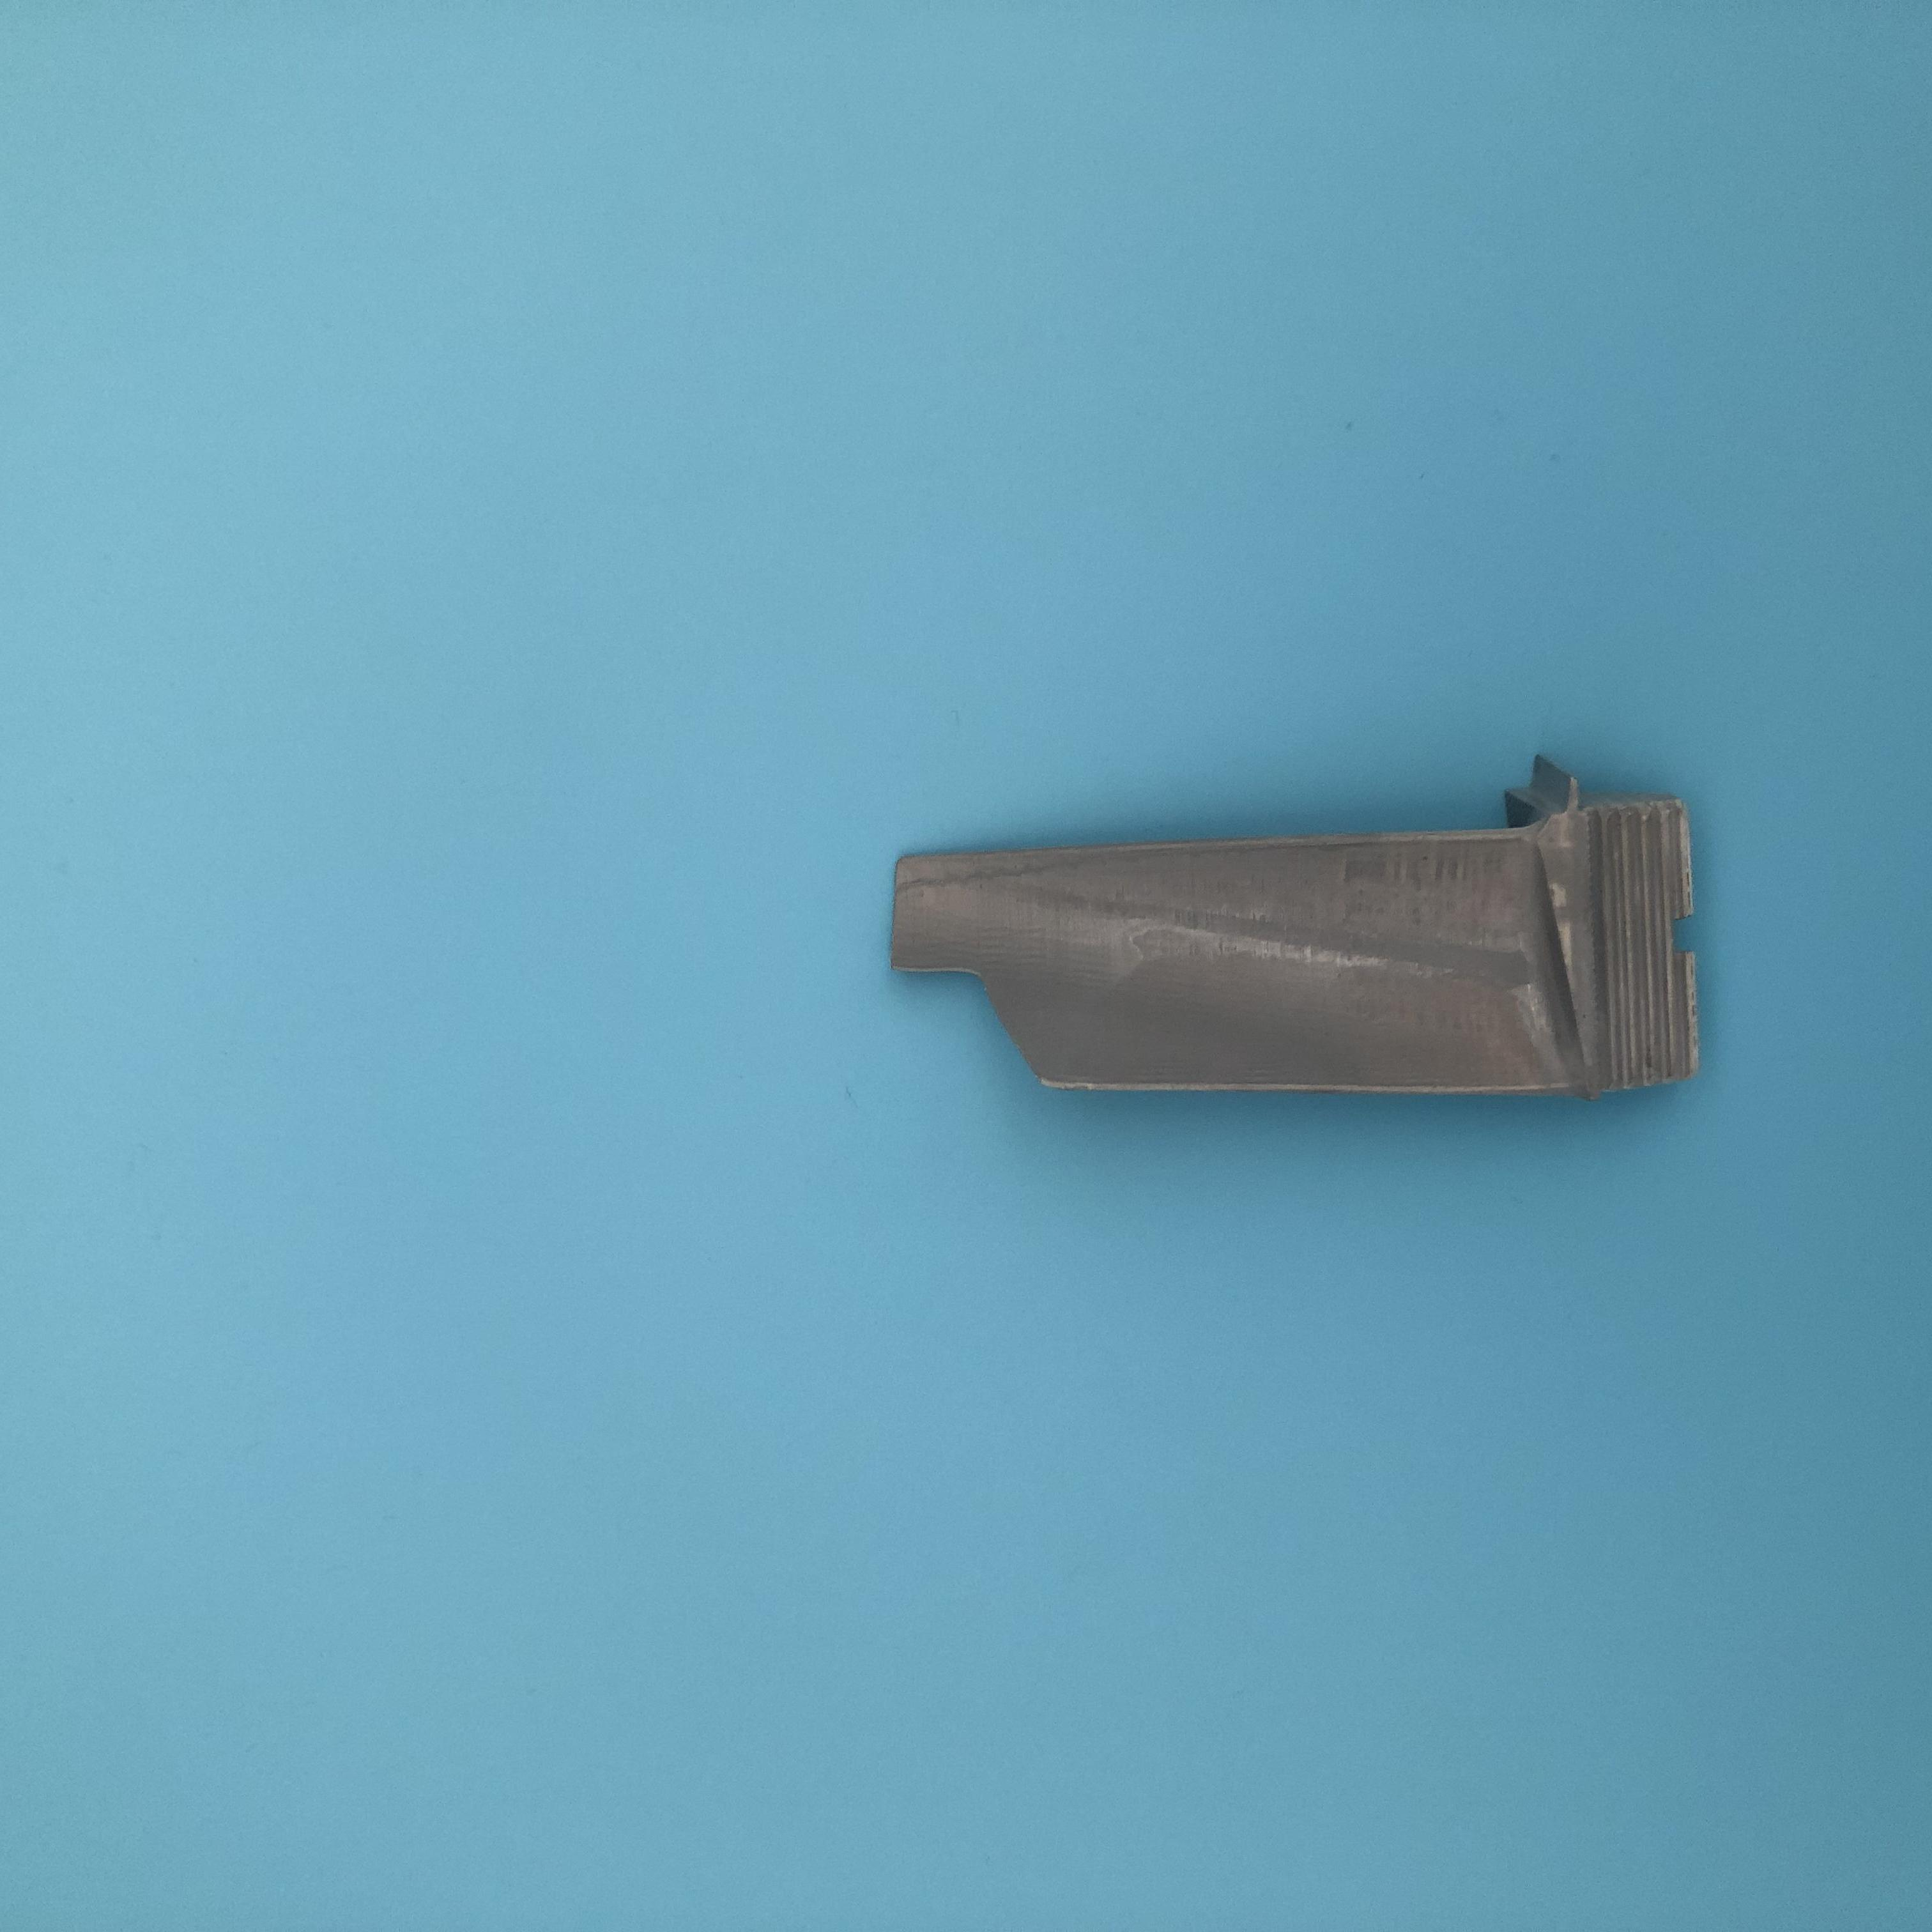fracture: (888, 952, 1070, 1097)
